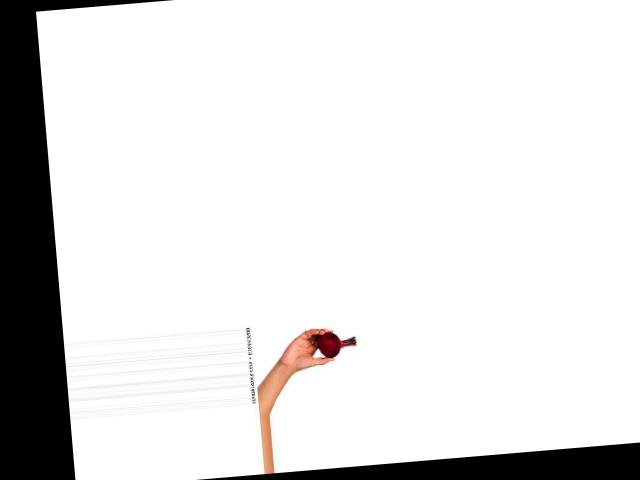beet: (316, 329, 357, 358)
